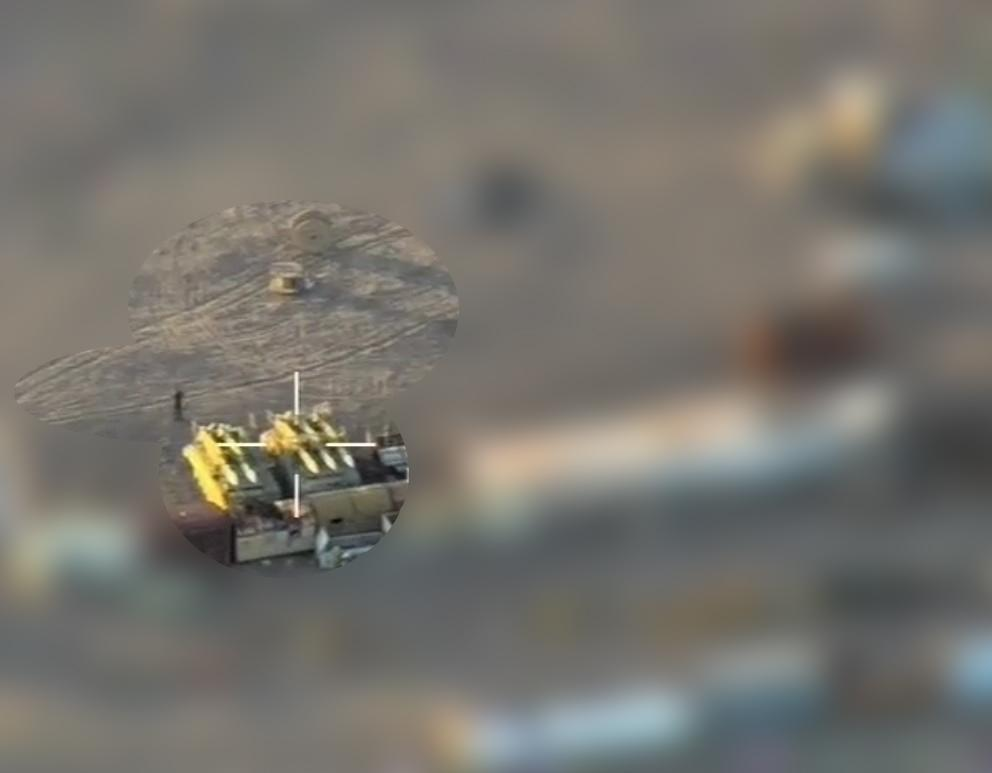armored_car: (179, 414, 270, 515), (274, 400, 362, 495)
